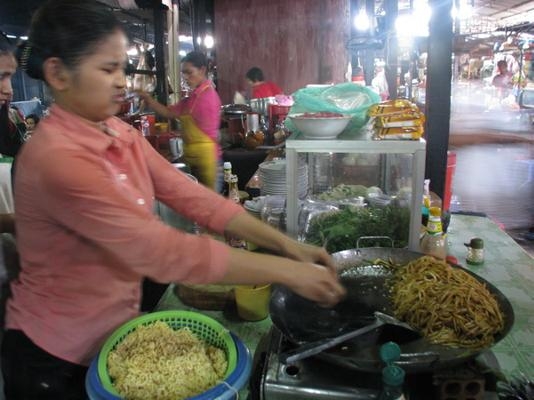person: (8, 12, 343, 400)
